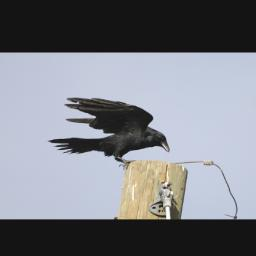Crow: (45, 96, 171, 169)
